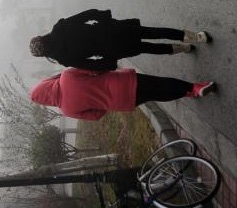person: (31, 6, 214, 71), (29, 65, 218, 123)
